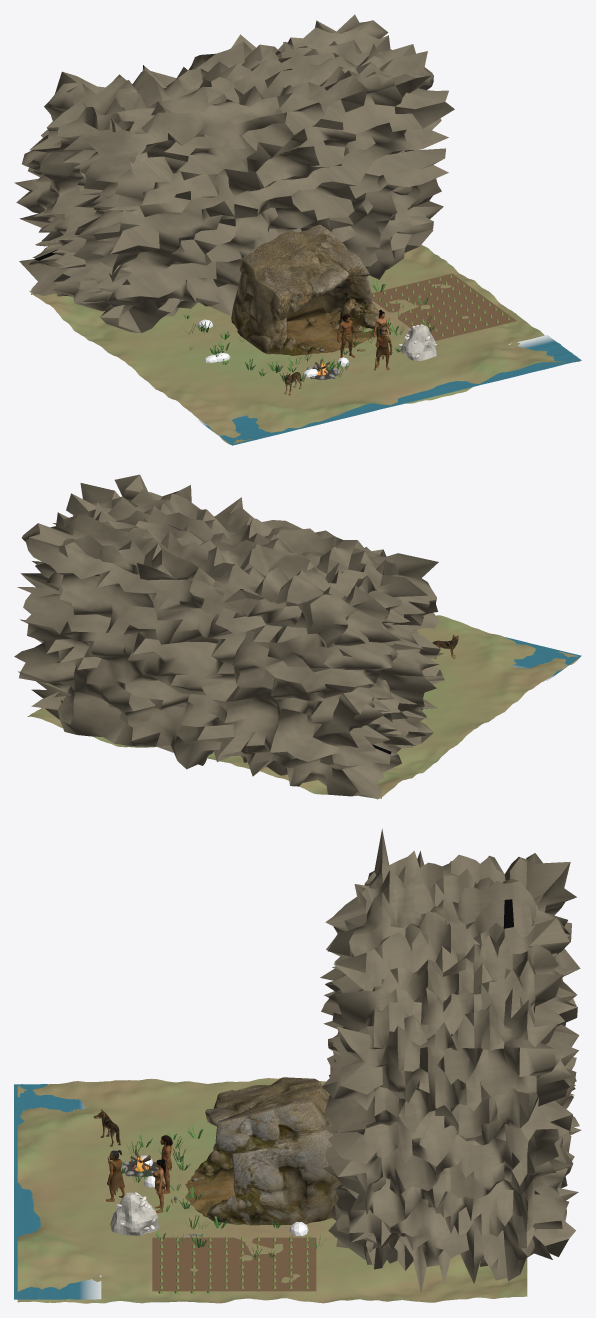
The model's file is mesolitikum.glb.
3 renders of one model, top to bottom at view 1: azimuth 30°, elevation 25°; view 2: azimuth 150°, elevation 25°; view 3: azimuth 270°, elevation 25°, orthographic. The views are drawn at different scales.
Visible parts, largest first — view 1: GEO-tebing, Terrain, gua, ladang_tanah, GEO-air, grass, GEO-kjokkenmoddinger, ladang_tanaman; view 2: GEO-tebing, Terrain, GEO-air; view 3: GEO-tebing, Terrain, gua, ladang_tanah, GEO-air, GEO-kjokkenmoddinger, grass, ladang_tanaman, tetua.
Part boxes in pixels (x1,y1,x2,y2): GEO-tebing: (14, 14, 454, 333); Terrain: (29, 244, 580, 444); gua: (231, 224, 379, 355); ladang_tanah: (371, 273, 516, 340); GEO-air: (198, 335, 581, 445); grass: (182, 280, 435, 381); GEO-kjokkenmoddinger: (397, 324, 436, 360); ladang_tanaman: (372, 274, 510, 336); GEO-tebing: (14, 474, 444, 798); Terrain: (27, 615, 579, 799); GEO-air: (491, 633, 581, 680); GEO-tebing: (320, 828, 581, 1292); Terrain: (17, 1078, 527, 1303); gua: (185, 1077, 341, 1225); ladang_tanah: (152, 1237, 316, 1291); GEO-air: (14, 1084, 101, 1299); GEO-kjokkenmoddinger: (110, 1192, 159, 1235); grass: (121, 1126, 320, 1259); ladang_tanaman: (158, 1236, 308, 1293); tetua: (106, 1150, 124, 1201).
Bounding box in the file's own units: 15 × 8.86 × 15.6.
Materials: 20 (10 with a texture image).
